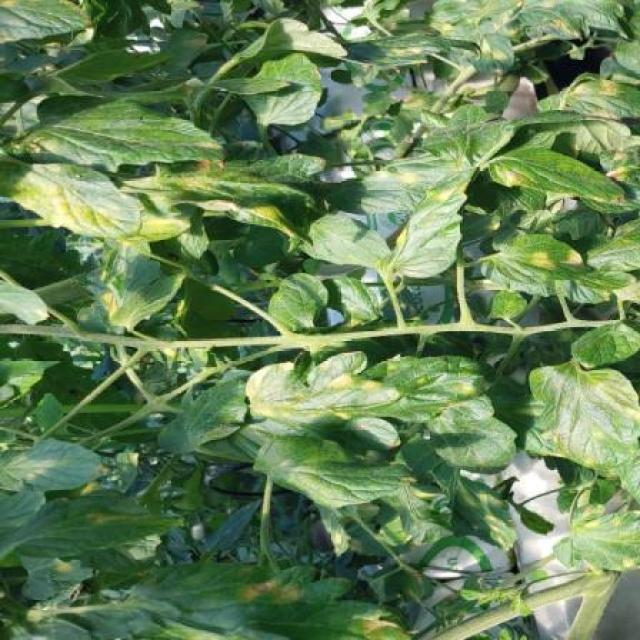Leaf Mold: (245, 352, 496, 457), (517, 357, 640, 474), (376, 167, 479, 280), (486, 148, 627, 206), (479, 228, 584, 286)
